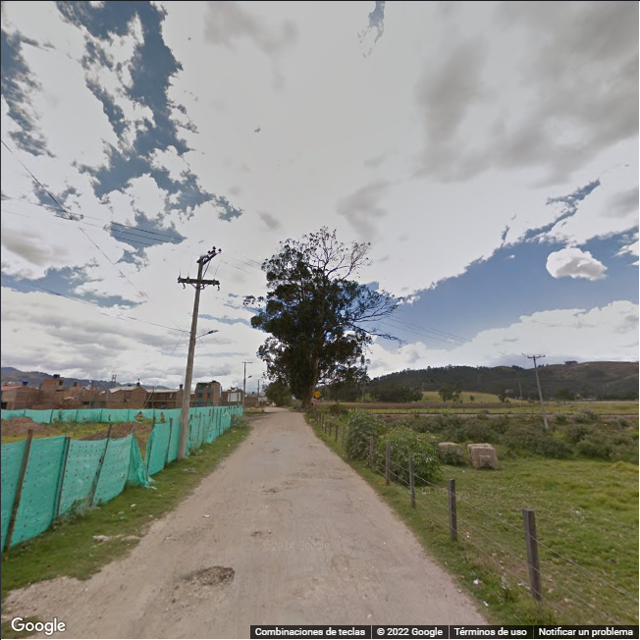D00: (332, 516, 364, 607)
D40: (185, 565, 236, 588)
